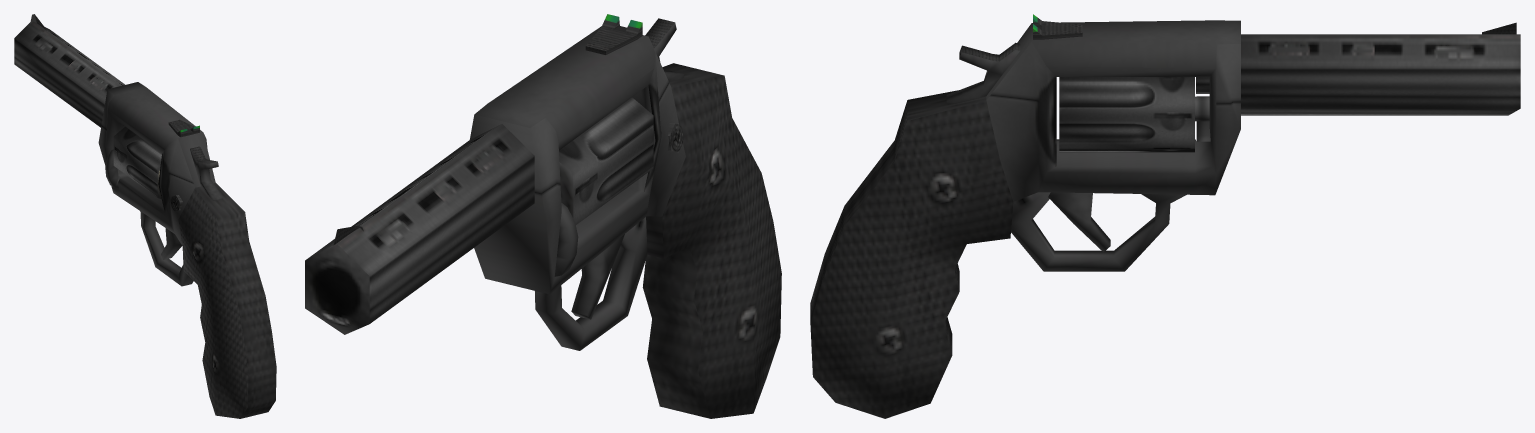
The model's file is Revolver_fbx.fbx.
3 views of the same model, side by side, from view 1: azimuth 30°, elevation 25°; view 2: azimuth 150°, elevation 25°; view 3: azimuth 270°, elevation 25° (orthographic). The views are drawn at different scales.
Parts seen in each view (by area): view 1: Revolver, Barrel, Cylinder, Trigger Guard, Hammer, Trigger, BackSight, CylinderHandle; view 2: Revolver, Barrel, Cylinder, Trigger Guard, Trigger, BackSight, CylinderHandle, Hammer; view 3: Revolver, Barrel, Cylinder, Trigger Guard, Hammer, Trigger, BackSight, CylinderHandle.
Boxes of the visible parts, x1,y1,x2,y2 form: Revolver: [98, 82, 276, 418]; Barrel: [14, 21, 125, 127]; Cylinder: [113, 126, 161, 199]; Trigger Guard: [140, 211, 193, 286]; Hammer: [190, 146, 222, 200]; Trigger: [161, 228, 181, 259]; BackSight: [168, 119, 199, 137]; CylinderHandle: [105, 149, 119, 188]; Revolver: [469, 26, 781, 418]; Barrel: [305, 124, 534, 334]; Cylinder: [559, 97, 653, 224]; Trigger Guard: [535, 217, 647, 350]; Trigger: [571, 234, 624, 319]; BackSight: [585, 14, 642, 54]; CylinderHandle: [554, 203, 578, 276]; Hammer: [645, 18, 684, 81]; Revolver: [810, 20, 1240, 418]; Barrel: [1196, 34, 1520, 115]; Cylinder: [1059, 77, 1194, 152]; Trigger Guard: [1011, 192, 1186, 271]; Hammer: [946, 42, 1020, 104]; Trigger: [1048, 192, 1110, 252]; BackSight: [1033, 14, 1082, 39]; CylinderHandle: [1195, 96, 1210, 141].
Size of the model in its own units: 47.61 by 215 by 364.
Materials: 1 (1 with a texture image).
